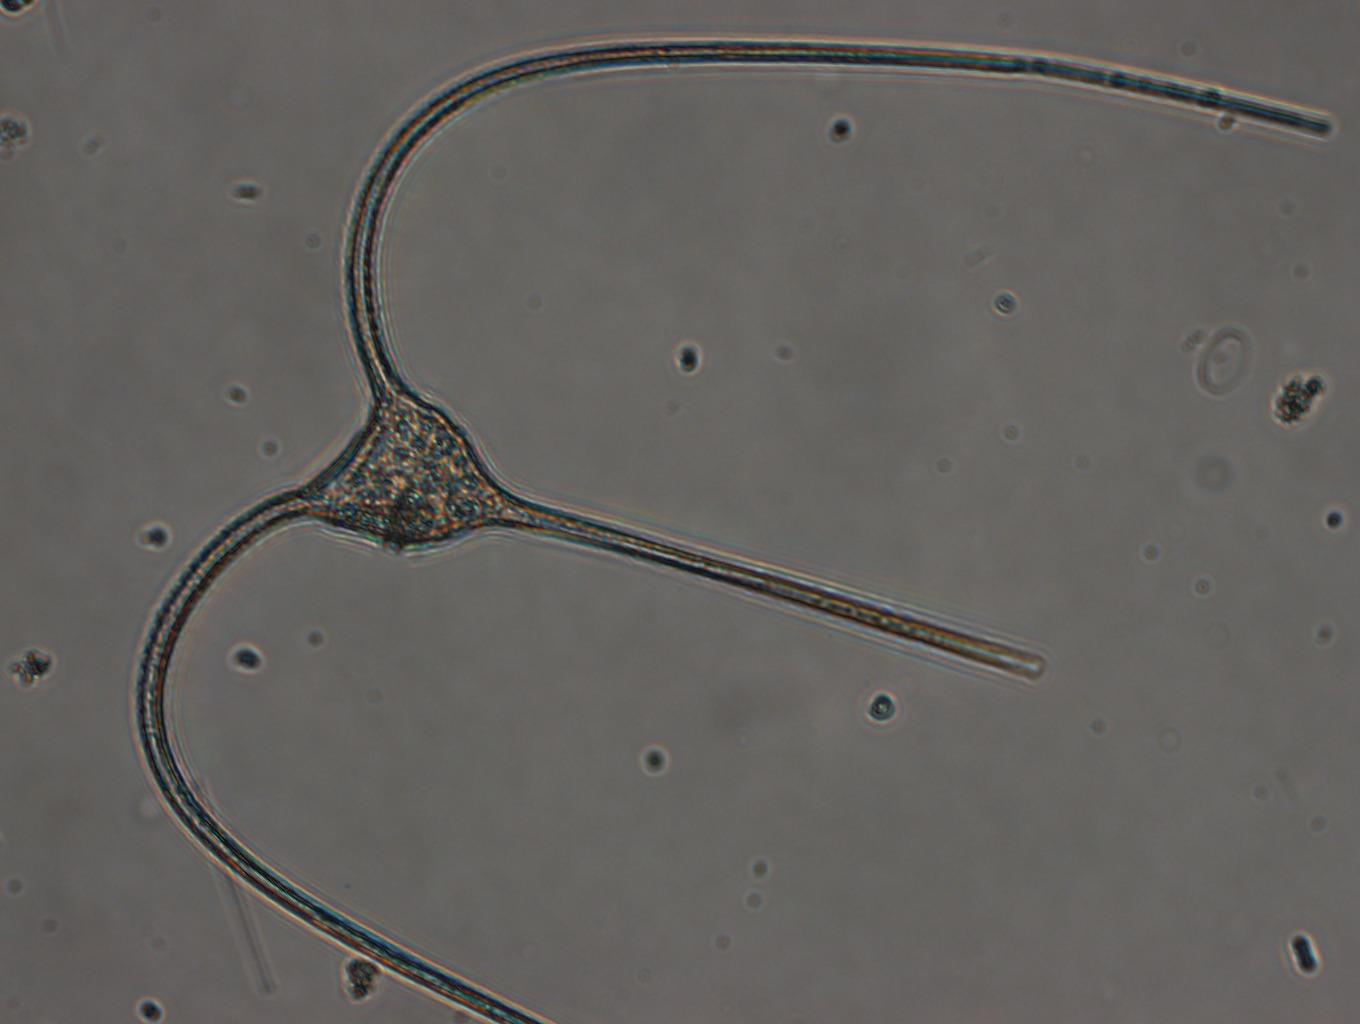ceratium trichoceros: (121, 40, 1360, 1014)
